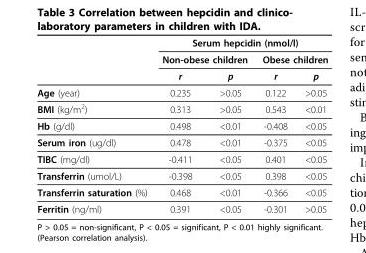table: (36, 36, 327, 214)
table column: (36, 36, 154, 214), (154, 36, 205, 214), (205, 36, 254, 214), (254, 36, 295, 214), (295, 36, 327, 214)
table column header: (36, 36, 327, 83)
table row: (36, 99, 327, 117), (36, 50, 327, 67), (36, 133, 327, 150), (36, 150, 327, 167), (36, 183, 327, 200), (36, 67, 327, 83), (36, 83, 327, 99), (36, 117, 327, 133), (36, 167, 327, 183), (36, 36, 327, 50), (36, 200, 327, 214)
table spanning cell: (154, 36, 327, 50), (154, 50, 254, 67), (254, 50, 327, 67)
